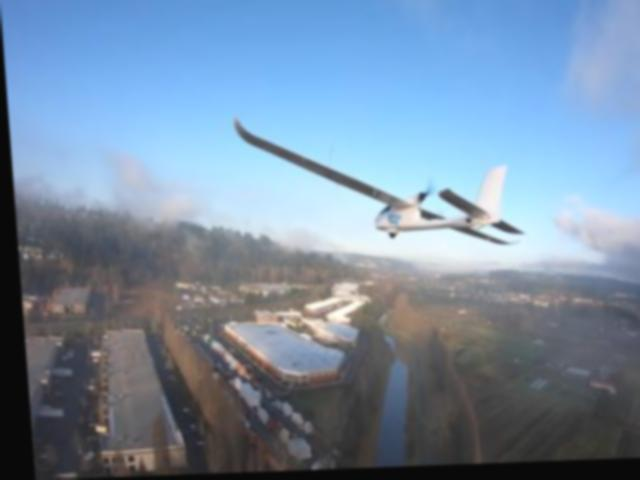uav: (221, 101, 531, 274)
